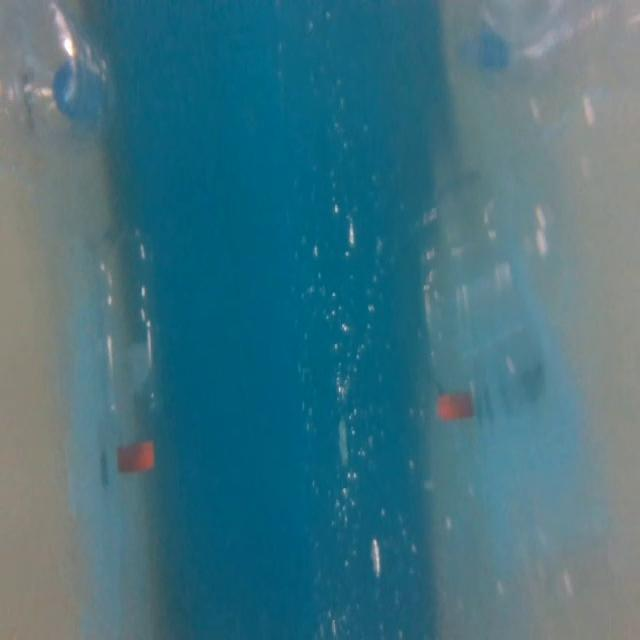plastic bottle: (88, 215, 176, 477)
